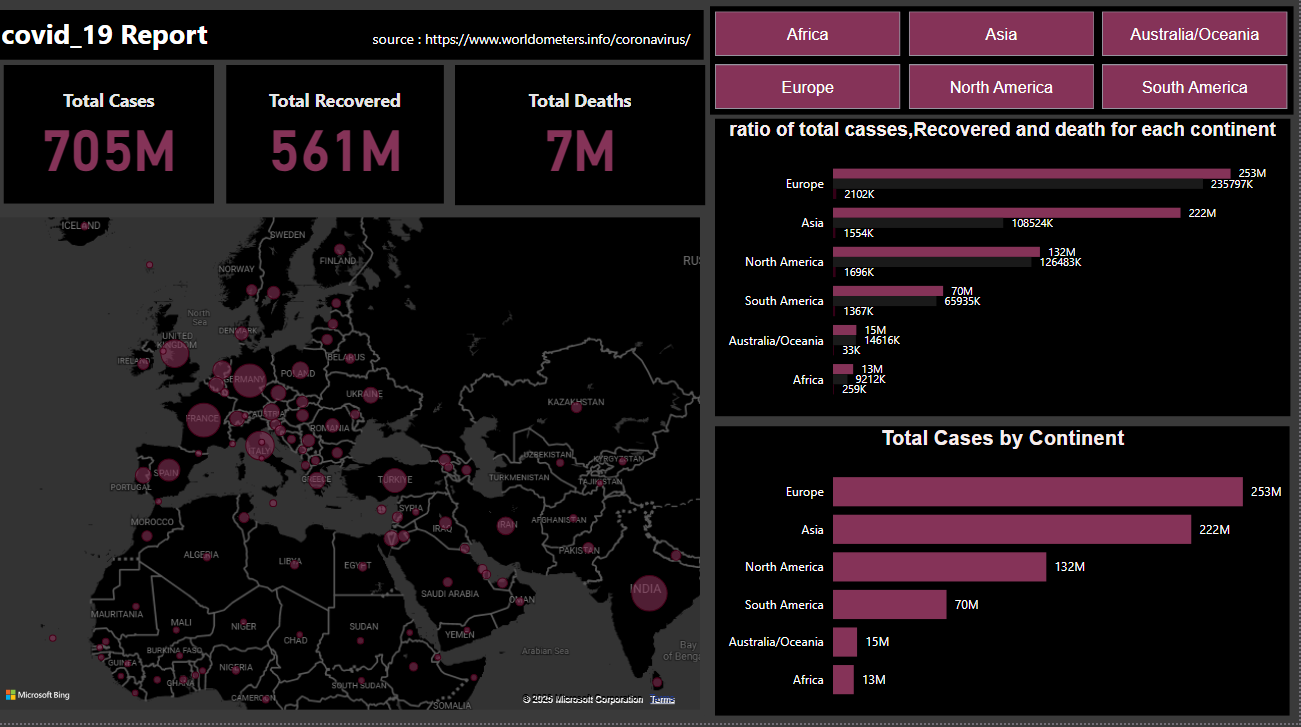

The page's visual inventory and layout, read from the dashboard file:
{"tool":"powerbi","page":{"name":"Page 1","canvas":[1280,720],"ordinal":0},"visuals":[{"type":"map","fields":{"Category":["Table 1.Country,Other"],"Size":["Sum(Table 1.TotalCases)"]},"box":[0,218.4,696.9,493.3],"z":0},{"type":"cardVisual","fields":{"Data":["Sum(Table 1.TotalCases)"]},"box":[8.6,73.6,206.1,136.2],"z":1000},{"type":"cardVisual","fields":{"Data":["Sum(Table 1.TotalRecovered)"]},"box":[227,73.6,213.5,136.2],"z":2000},{"type":"cardVisual","fields":{"Data":["Sum(Table 1.TotalDeaths)"]},"box":[451.5,73.6,245.4,137.4],"z":3000},{"type":"clusteredBarChart","fields":{"Category":["Table 1.Continent","Table 1.Country,Other"],"Y":["Sum(Table 1.TotalCases)"]},"box":[706.9,428.6,564.4,283.9],"z":4000},{"type":"clusteredBarChart","title":"ratio of total casses,Recovered and death for each continent","fields":{"Category":["Table 1.Continent","Table 1.Country,Other"],"Y":["Sum(Table 1.TotalCases)","Sum(Table 1.TotalRecovered)","Sum(Table 1.TotalDeaths)"]},"box":[706.8,126.4,564.4,292],"z":5000},{"type":"advancedSlicerVisual","fields":{"Values":["Table 1.Continent"]},"box":[701.8,16,573,106.7],"z":6000},{"type":"textbox","box":[1.2,19.6,694.5,49.1],"z":7000}]}

Visuals, with their boxes in screenshot pixels (x1, y1, x2, y2), scaled from the page's 1280x720 canvas onto the 1301x727 screenshot:
map - Table 1.Country,Other x Sum(Table 1.TotalCases): (0, 221, 708, 719)
cardVisual - Sum(Table 1.TotalCases): (9, 74, 218, 212)
cardVisual - Sum(Table 1.TotalRecovered): (231, 74, 448, 212)
cardVisual - Sum(Table 1.TotalDeaths): (459, 74, 708, 213)
clusteredBarChart - Table 1.Continent x Table 1.Country,Other: (718, 433, 1292, 719)
"ratio of total casses,Recovered and death for each continent" clusteredBarChart: (718, 128, 1292, 422)
advancedSlicerVisual - Table 1.Continent: (713, 16, 1296, 124)
textbox: (1, 20, 707, 69)
